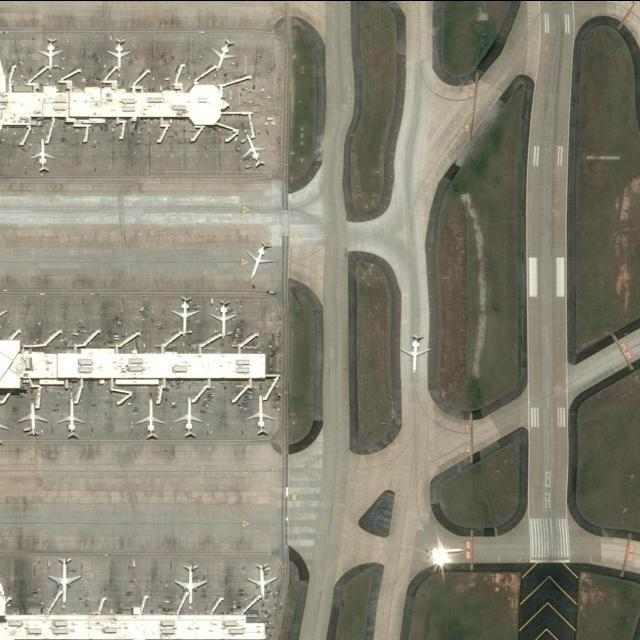Aircraft: (50, 555, 84, 603), (247, 394, 279, 441), (170, 295, 204, 337), (177, 563, 209, 607), (138, 397, 169, 441), (58, 395, 88, 440), (404, 335, 434, 377), (178, 396, 206, 441), (246, 241, 276, 281), (249, 562, 279, 600), (18, 403, 50, 438), (106, 37, 135, 74), (212, 37, 240, 75), (242, 134, 271, 170), (212, 301, 240, 338), (30, 139, 58, 173), (38, 37, 65, 71), (0, 405, 13, 447), (0, 299, 10, 329)
